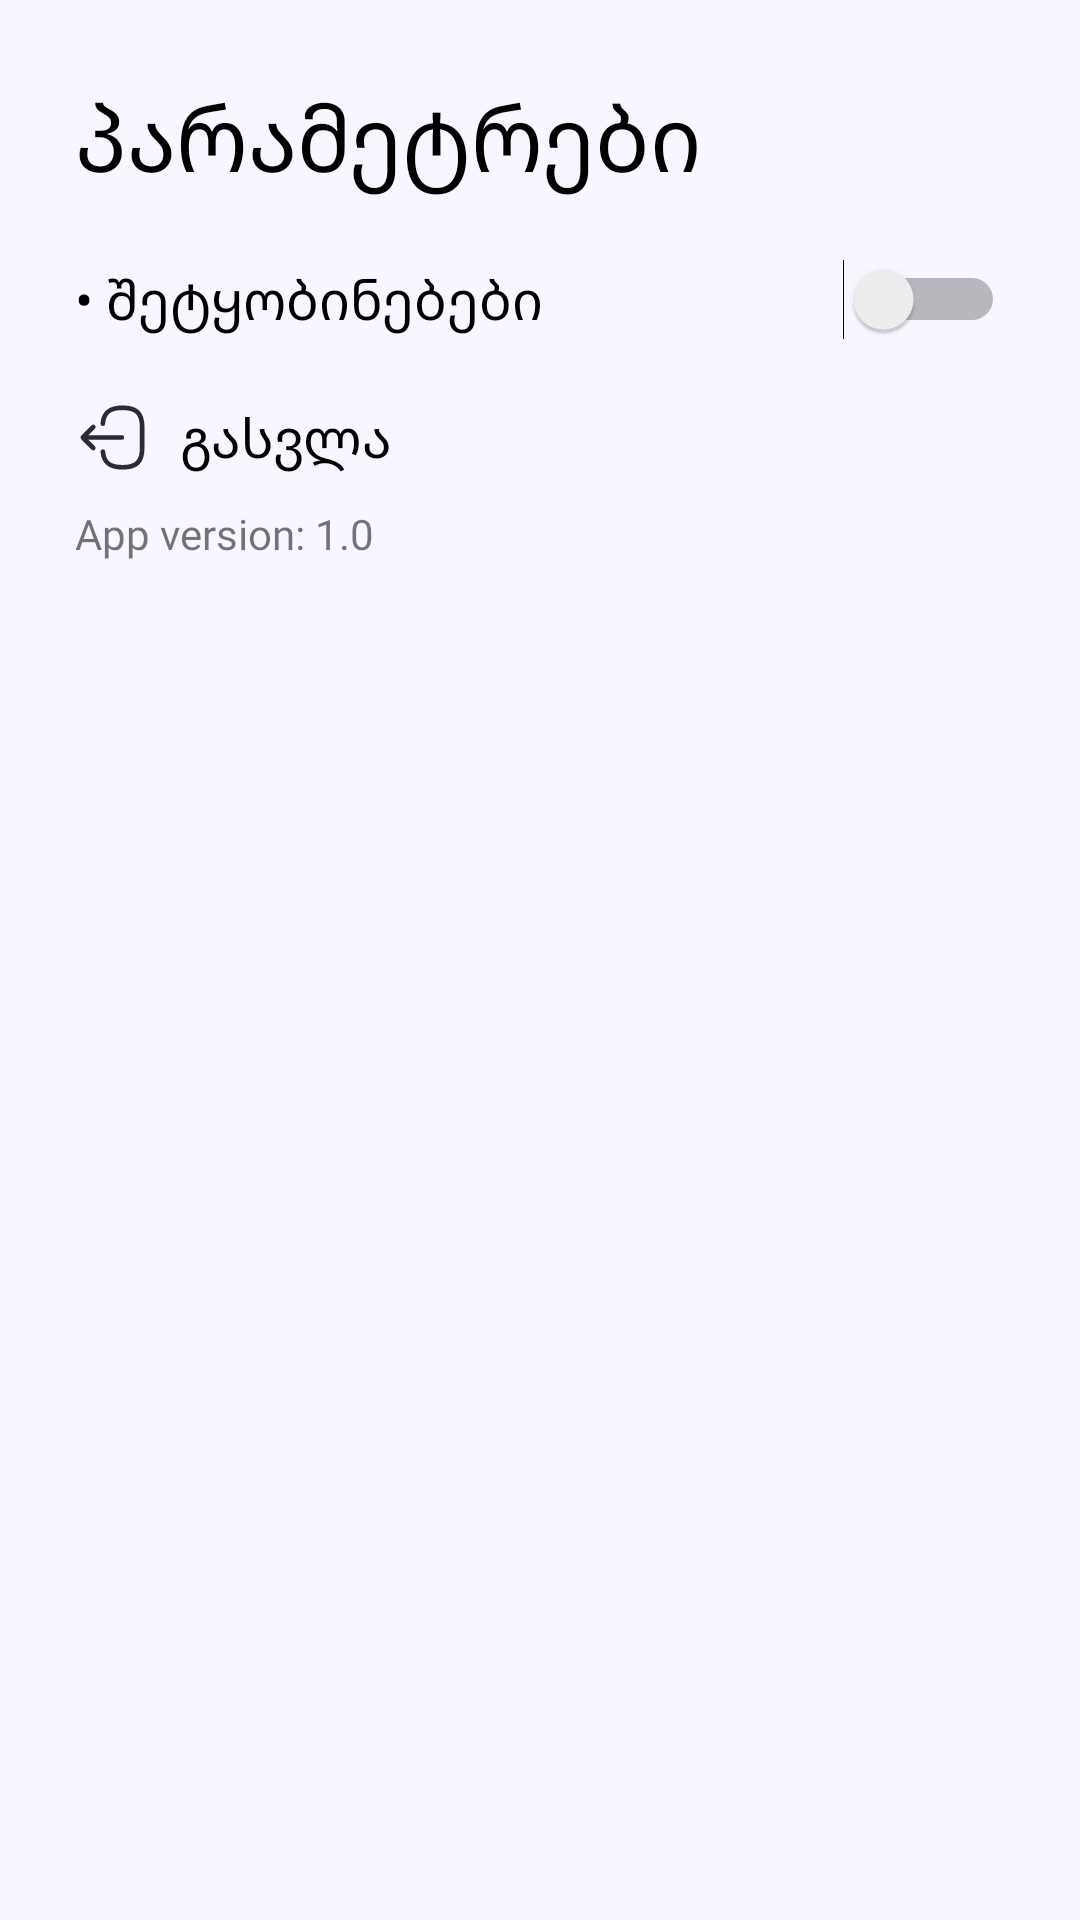

Point at icon controls on the screen. Image size 1080 x 1920, points as (x=x, y=y).
exit: (x=112, y=437)
